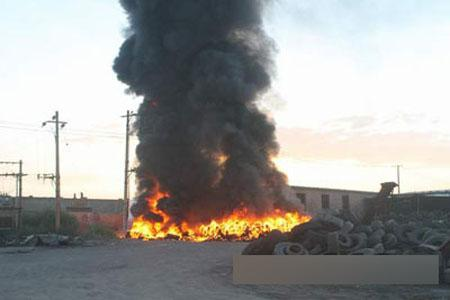smoke: (107, 1, 291, 206)
